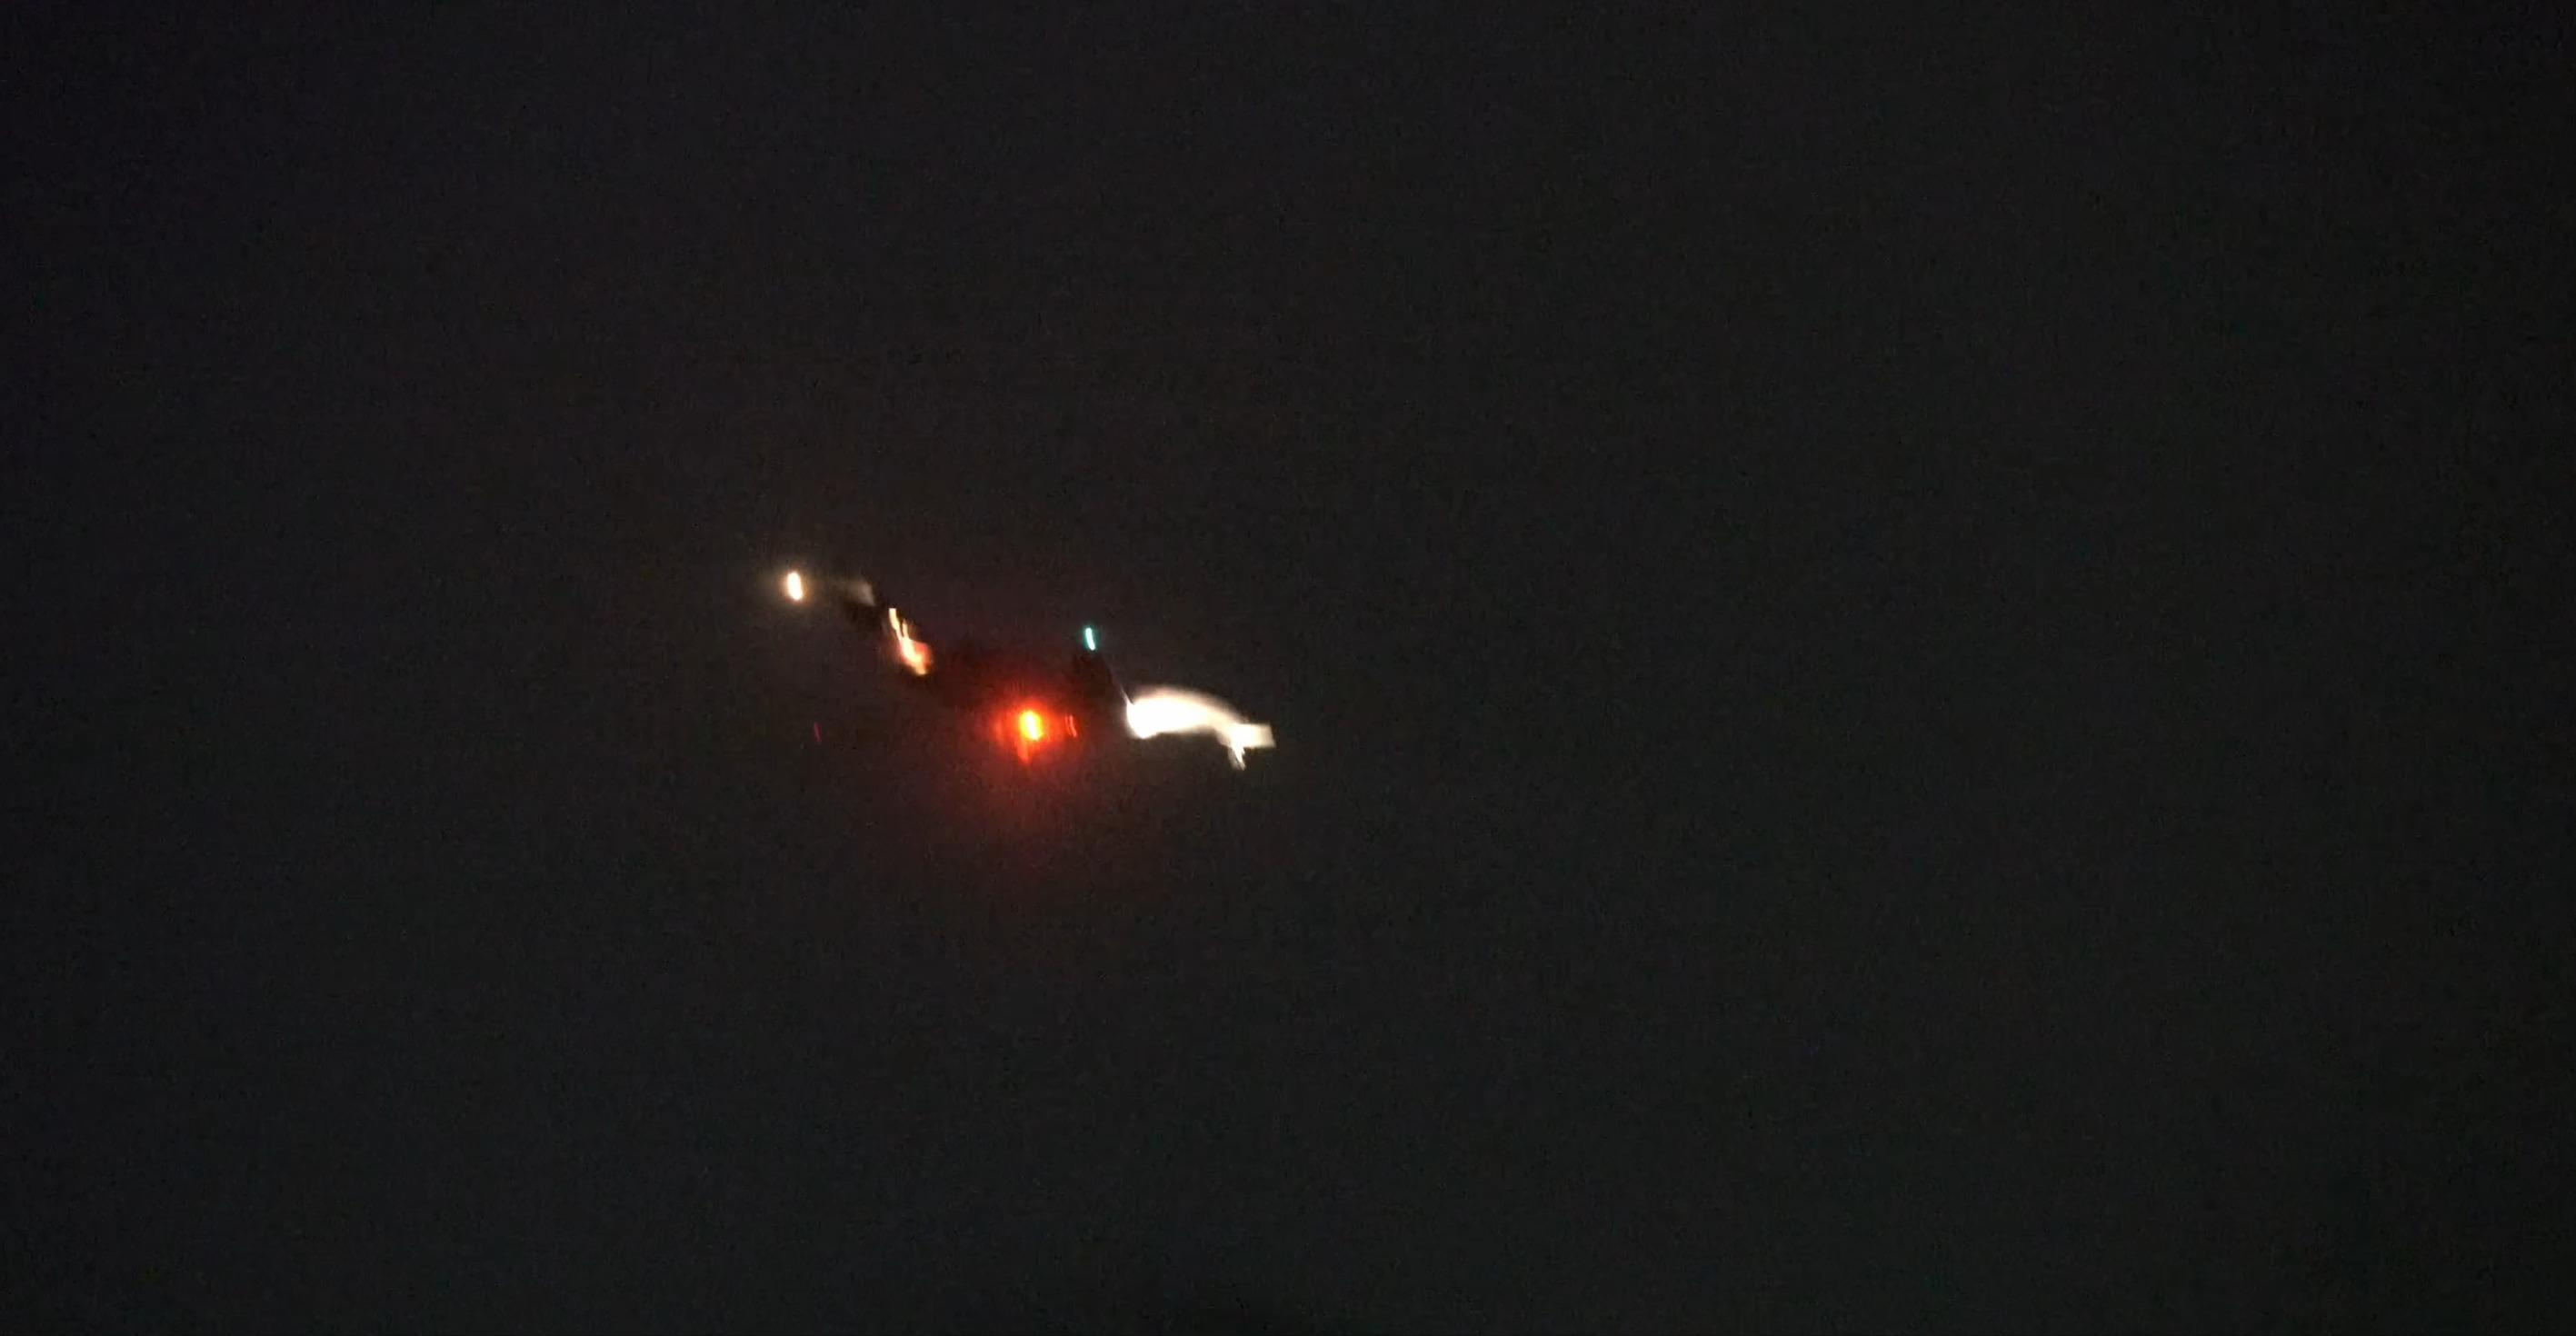Plane: (734, 506, 1310, 866)
